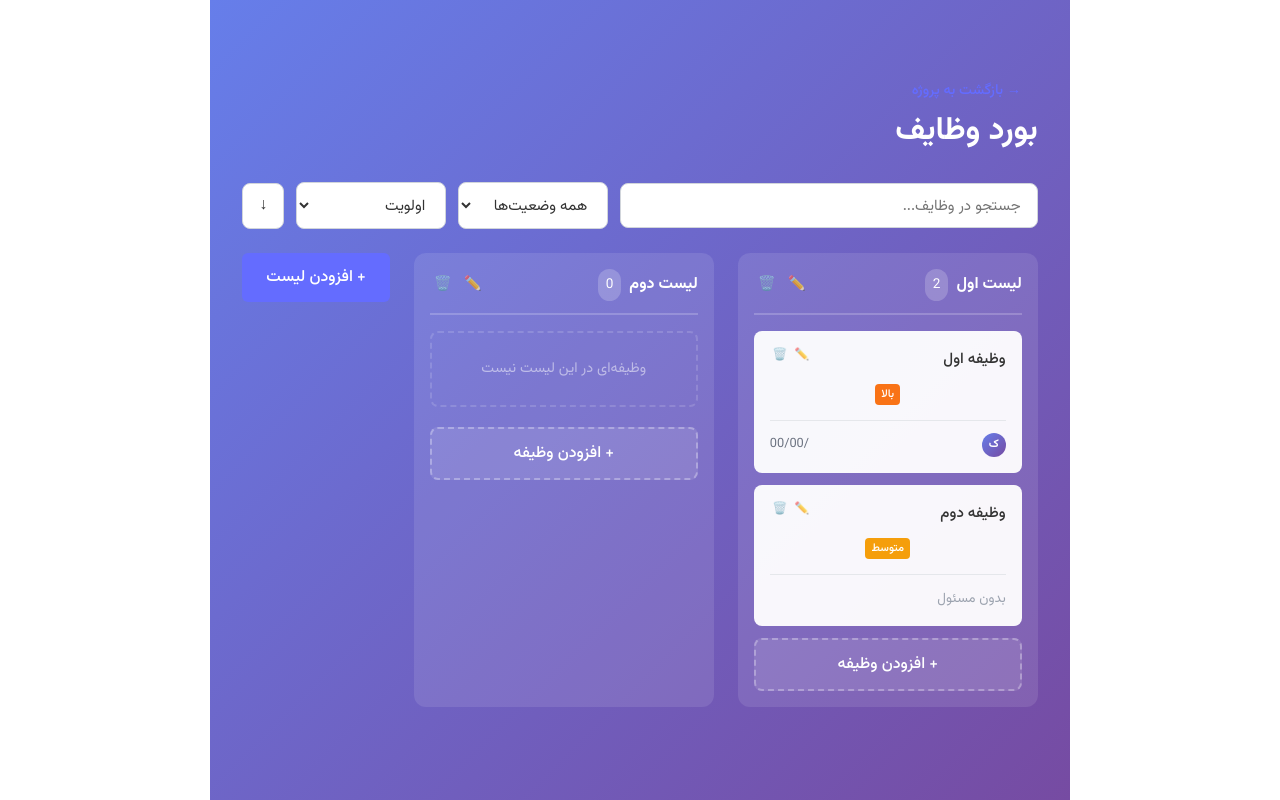
Test: TaskBoard › Create list › validates that list name is required
Expected: the heading "لیست اول" is shown, left=956, top=271, right=1022, bottom=298
Click the button "+ افزودن لیست" at (316, 278), box left=242, top=253, right=390, bottom=302
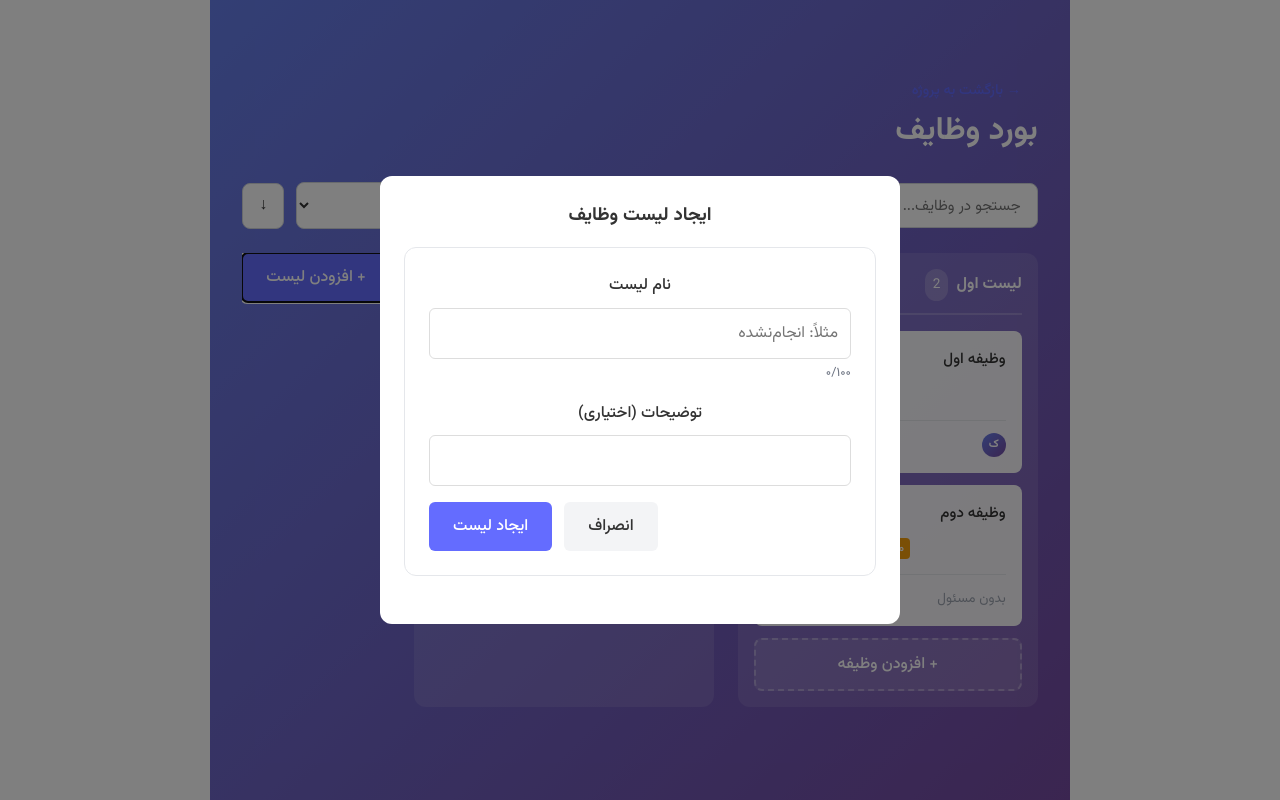
Click the button "ایجاد لیست" at (491, 527), box left=429, top=502, right=552, bottom=552
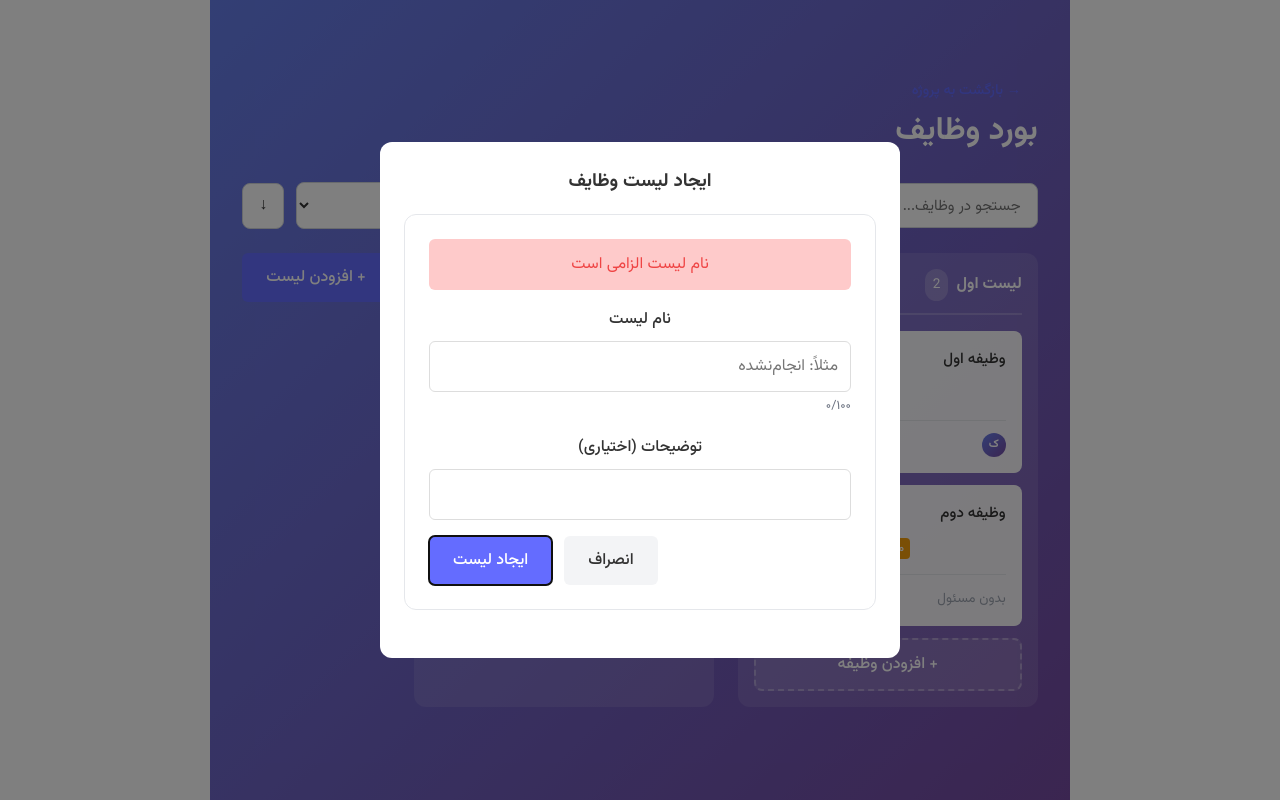
Expected: the text "نام لیست الزامی است" is shown, left=429, top=239, right=851, bottom=290
